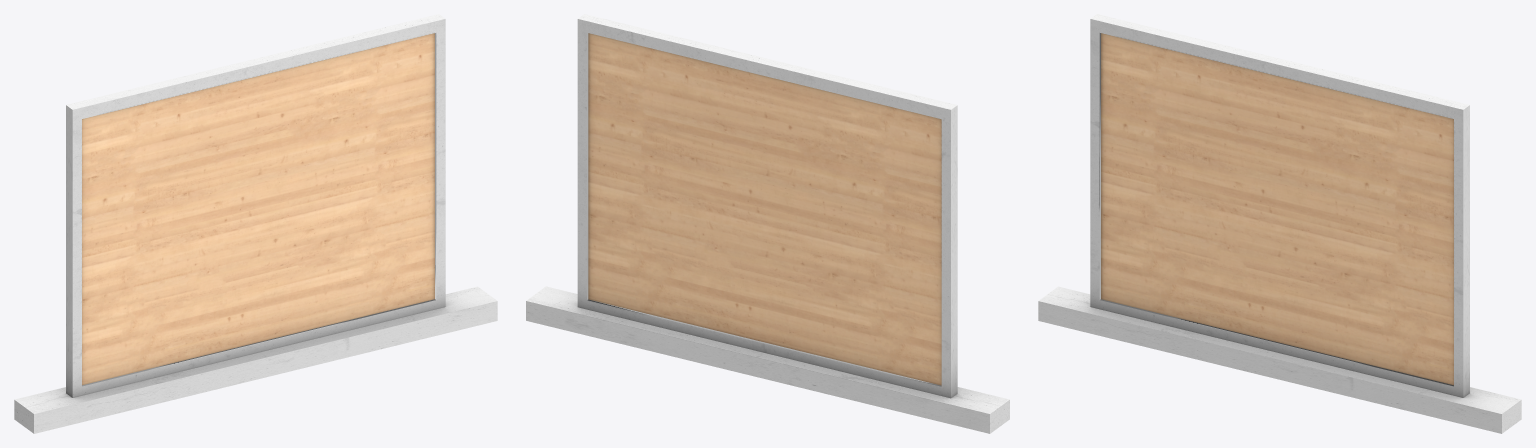
File: wall.glb
3 renders of one model, left to right at view 1: azimuth 30°, elevation 25°; view 2: azimuth 150°, elevation 25°; view 3: azimuth 330°, elevation 25°, orthographic.
Parts seen in each view (by area): view 1: Mesh; view 2: Mesh; view 3: Mesh.
Part boxes in pixels (box(x1,y1,x2,y2)): Mesh: box(14, 14, 497, 433); Mesh: box(526, 14, 1009, 433); Mesh: box(1038, 14, 1521, 433).
Size of the model in its own units: 5380 by 3416 by 400.
1 material, 1 textured.
